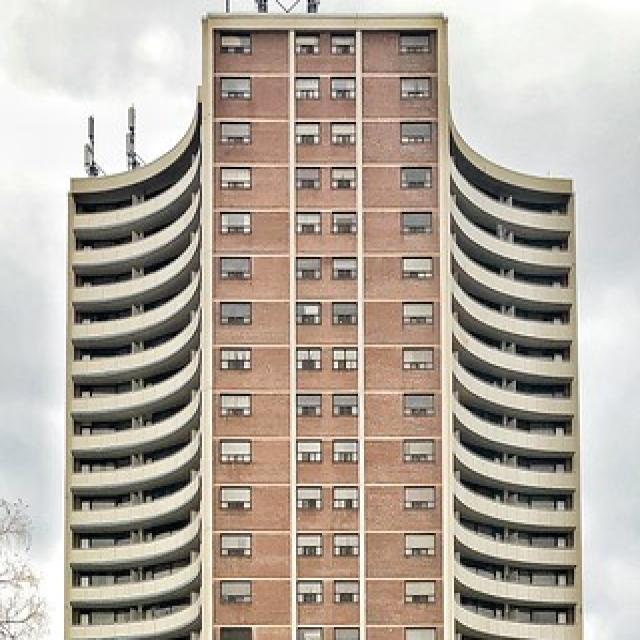building: (60, 8, 586, 640)
